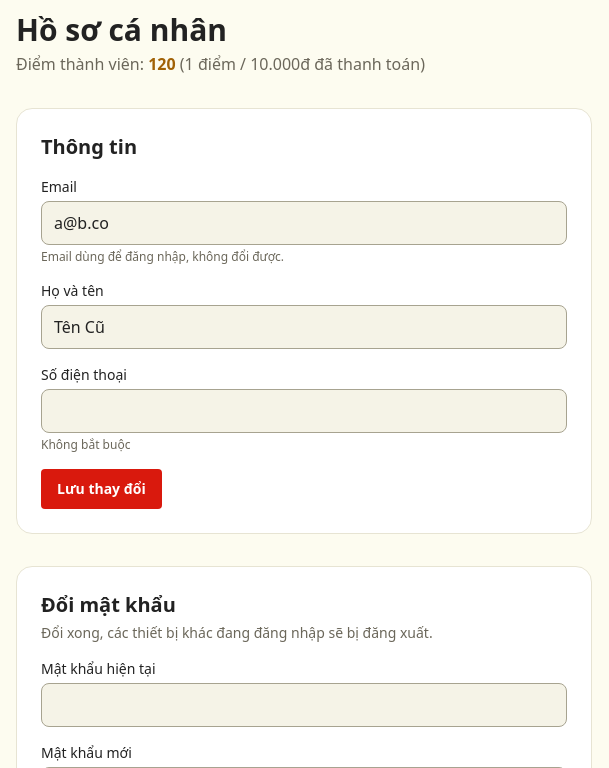
ProfilePage (P12) › hiện email (không sửa được) và điểm; lưu hồ sơ gửi ĐÚNG hai trường và cập nhật người dùng
Expected: the field labelled "Email" is disabled, [41,201,567,245]
Expected: the text "120" is shown, [148,53,176,75]
Replace the text in the field labelled "Họ và tên" with "  Tên Mới " at (304, 327), box [41,305,567,349]
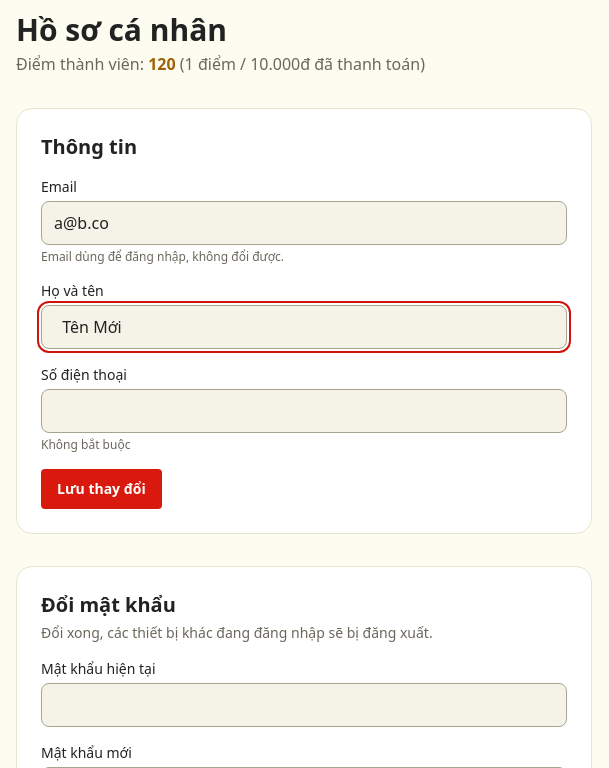
Type "0912345678" into the field labelled "Số điện thoại" at (304, 411), box [41,389,567,433]
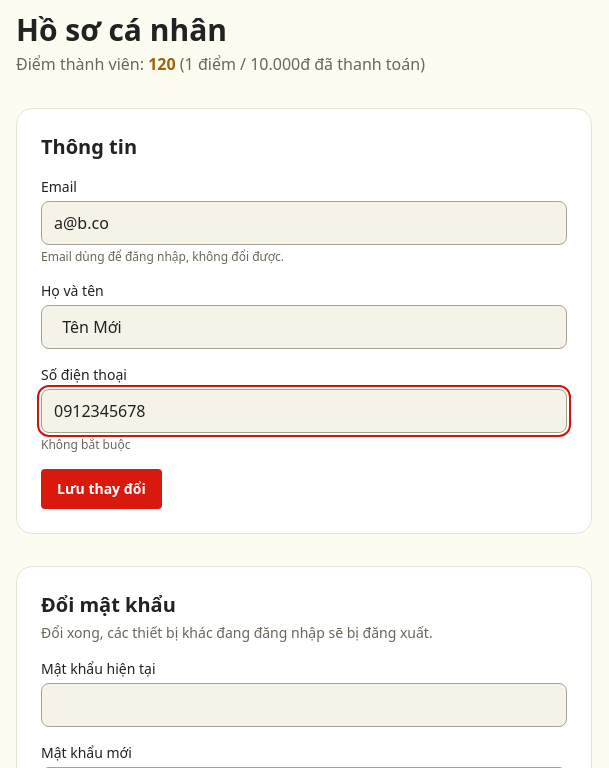
Click the button "Lưu thay đổi" at (101, 489), box [41,469,162,509]
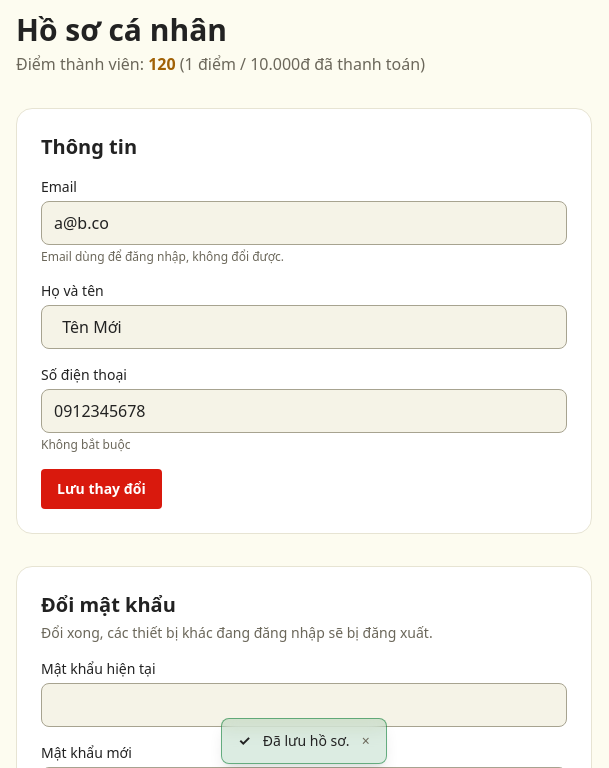
Expected: the text "Đã lưu hồ sơ." is shown, [263,731,350,751]
